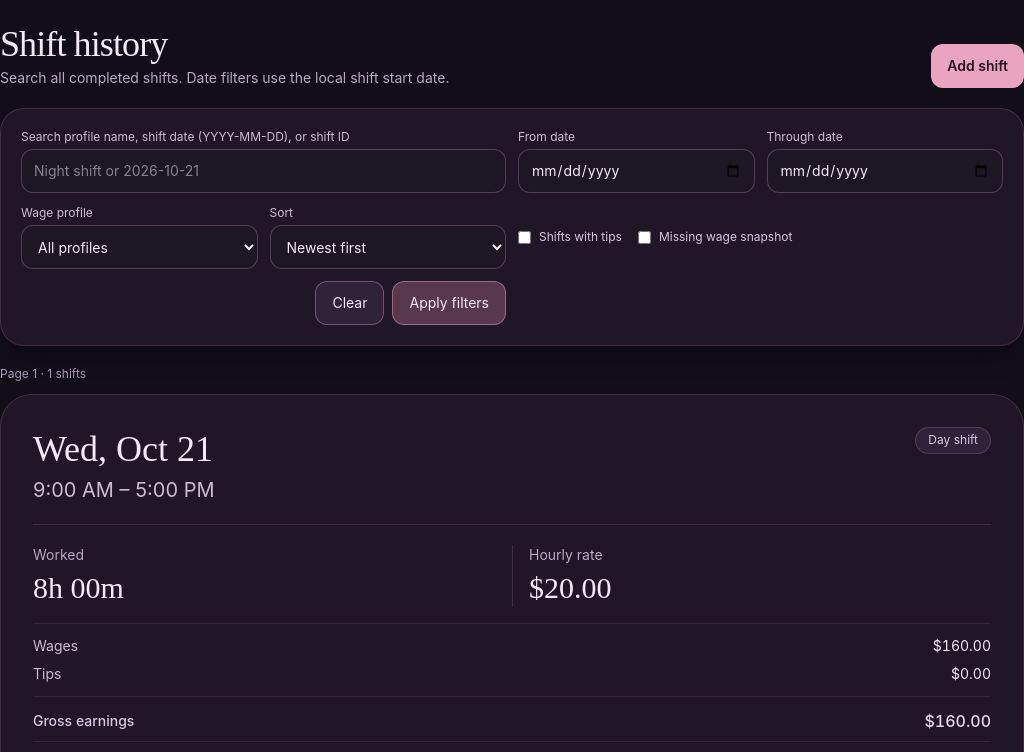
Test case: shift history navigation and list size › filters before paging and loads the next page from the full history query
Expected: the text "Day shift" is shown, [915,427,991,454]
Type "Night shift" into the search field labelled "Search profile name, shift date (YYYY-MM-DD), or shift ID" at (264, 171), box [21,149,506,193]
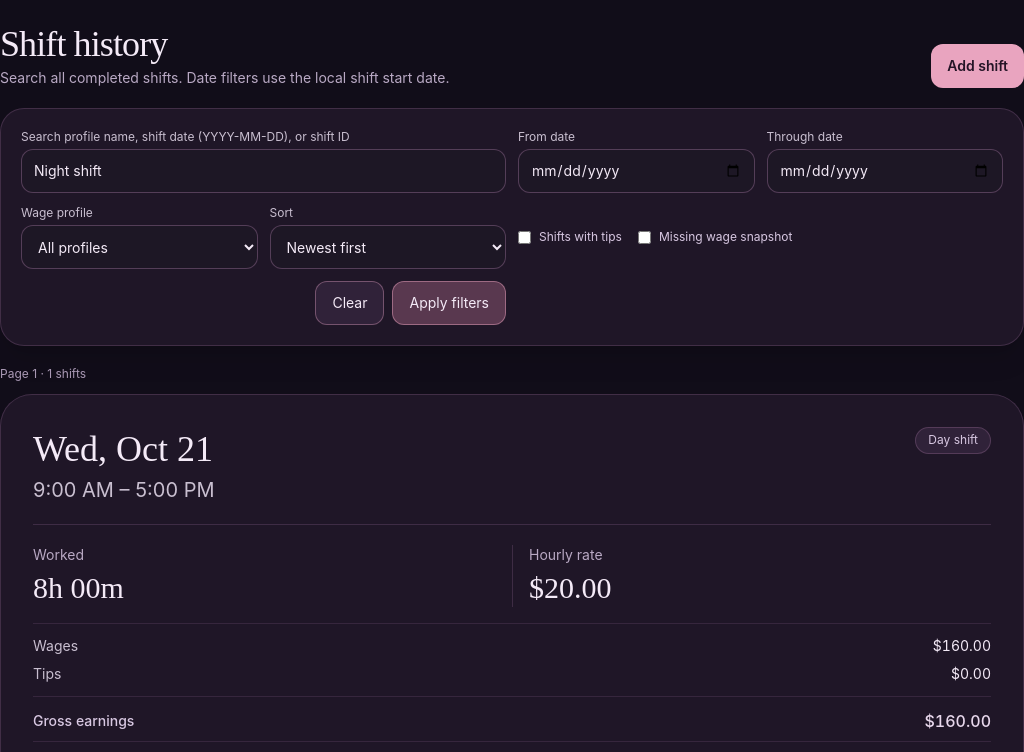
Click the button "Apply filters" at (449, 303), box [392,281,506,325]
(page scrolled)
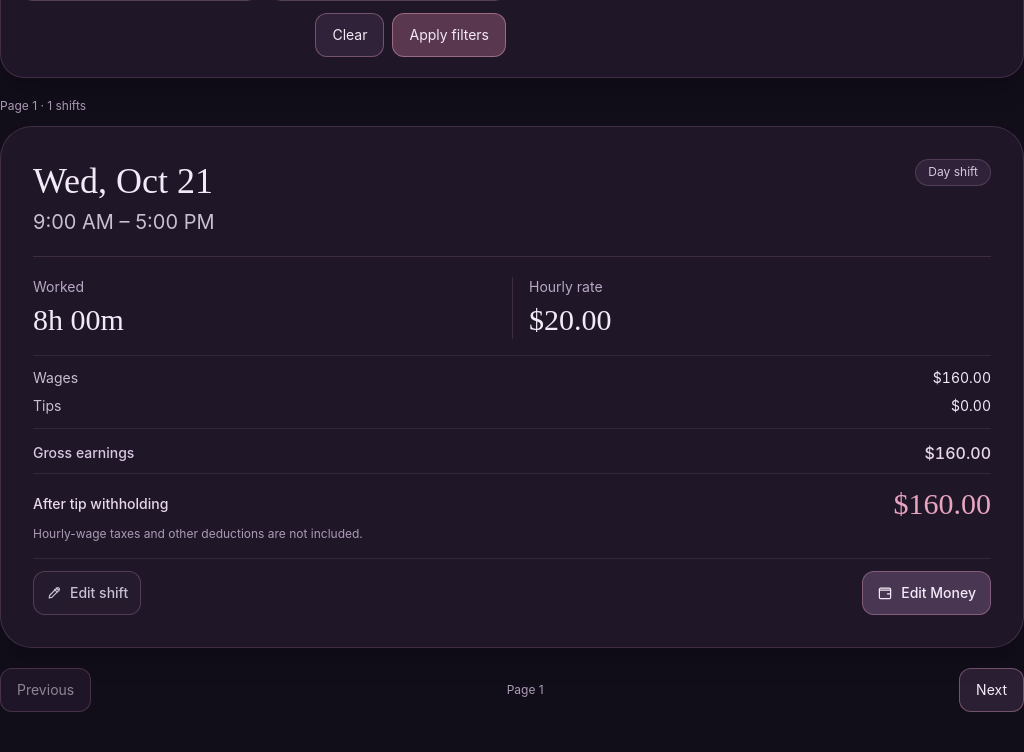
Click the button "Next" at (992, 690), box [959,668,1023,712]
(page scrolled)
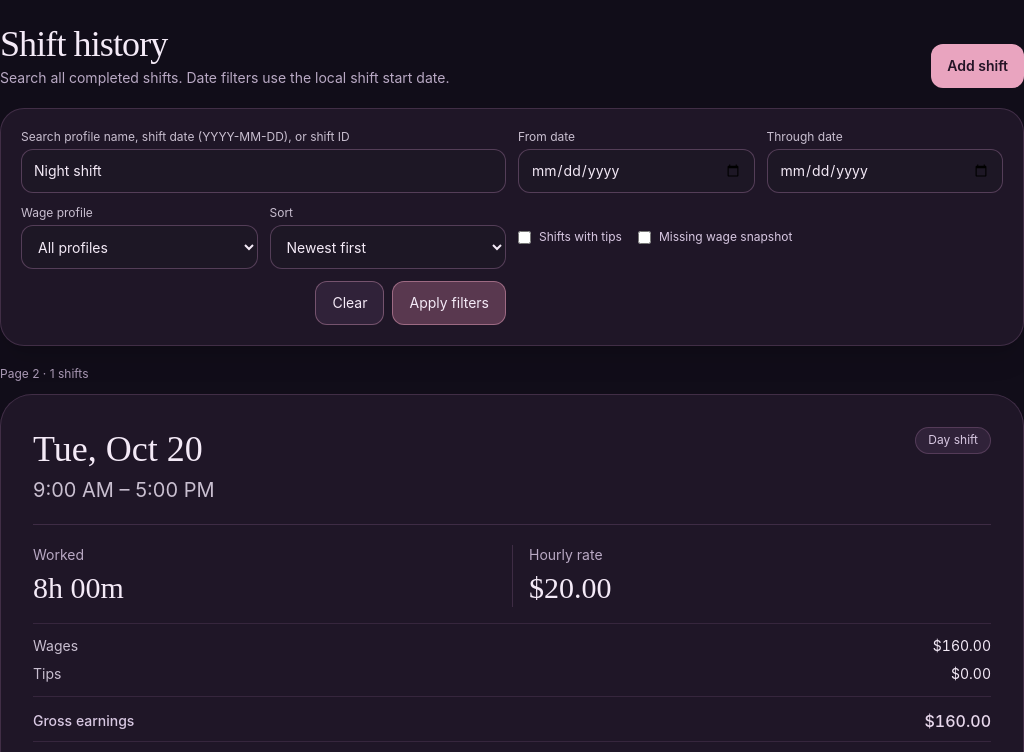
Expected: the text "Page 2 · 1 shifts" is shown, [0,366,88,381]
